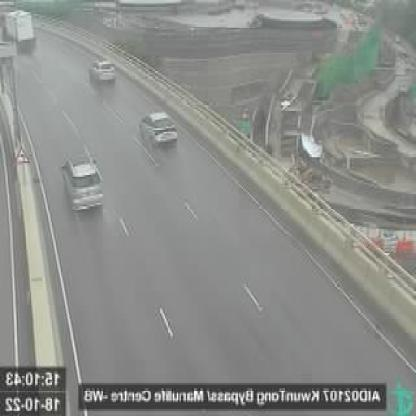Car: (61, 154, 107, 214), (135, 109, 180, 153), (87, 57, 118, 86)
Truck: (3, 10, 35, 52)
